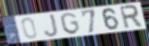0: (21, 17, 39, 40)
6: (101, 7, 121, 32)
7: (80, 9, 97, 34)
G: (59, 12, 82, 35)
J: (44, 13, 60, 38)
R: (118, 4, 144, 30)
